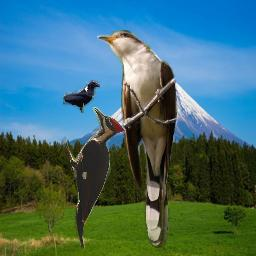Crow: (63, 80, 100, 113)
Cuckoo: (97, 30, 178, 248)
Woodpecker: (61, 107, 126, 249)
